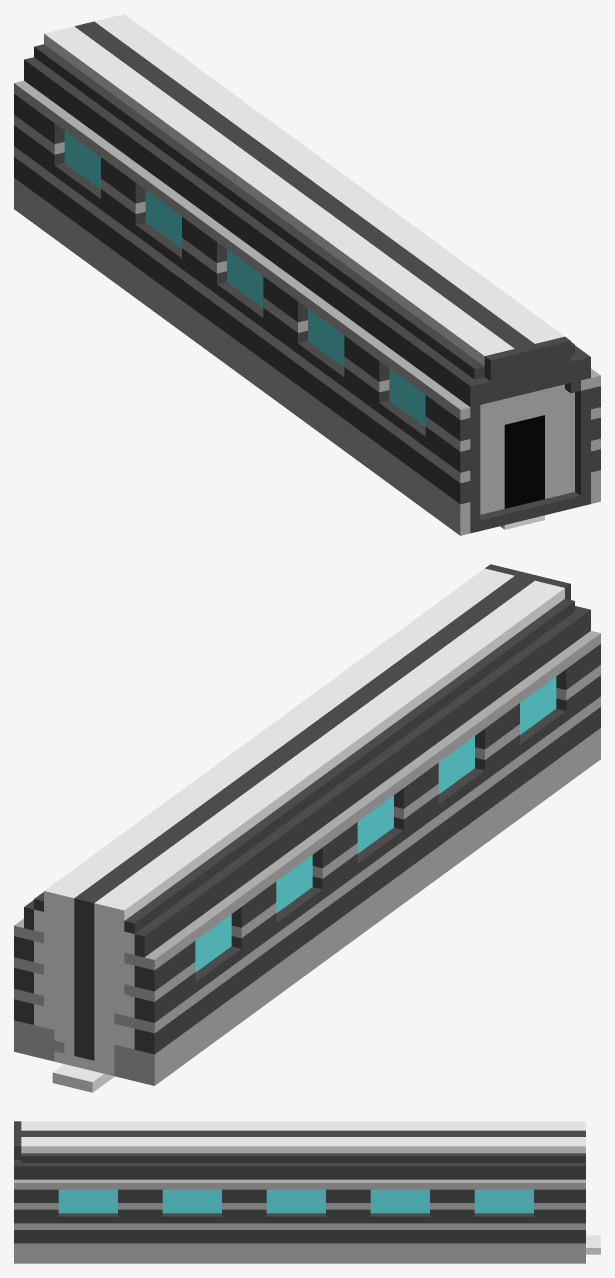
The model's file is TrainCargo.obj.
The picture shows the model from 3 angles, top to bottom: view 1: azimuth 30°, elevation 25°; view 2: azimuth 150°, elevation 25°; view 3: azimuth 270°, elevation 25°; orthographic projection. The views are drawn at different scales.
Size of the model in its own units: 1.4 by 1.7 by 7.9.
Materials: 1 (1 with a texture image).
